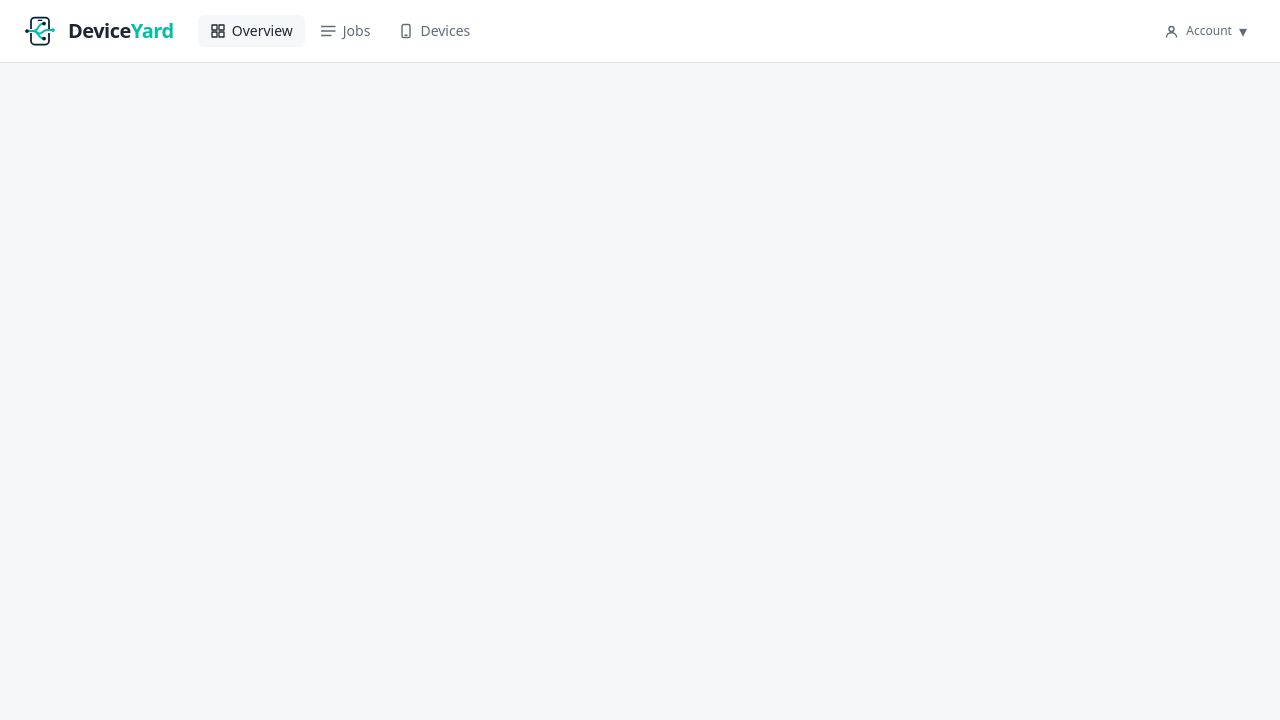
Test: account menu opens on click and closes on outside click
Click the button with aria-label "account menu" at (1206, 31), box x1=1155 y1=10 x2=1256 y2=52
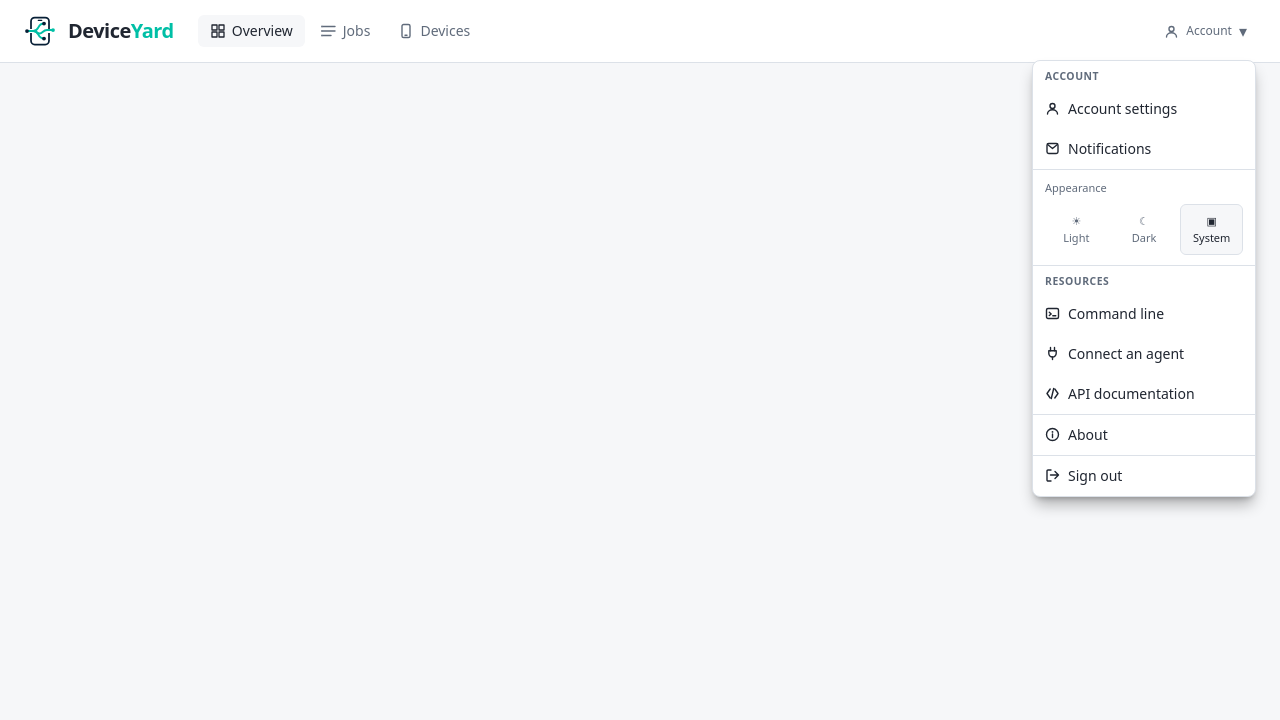
Now the button "Sign out" is shown, box x1=1033 y1=455 x2=1255 y2=496
Press the mouse on the element that starts with "Device" at (640, 360), box x1=0 y1=0 x2=1279 y2=719
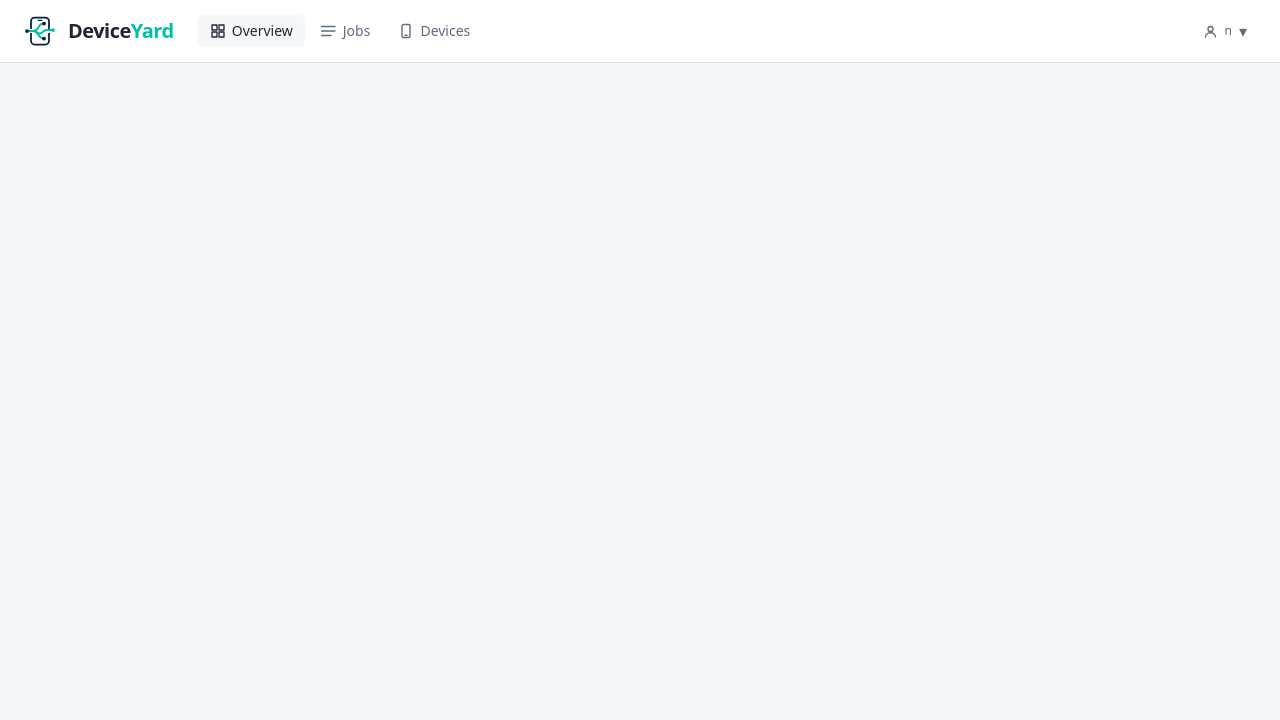
Now the button "Sign out" is gone
